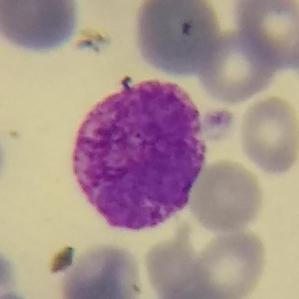Basophil: (60, 68, 214, 242)
Platelets: (202, 106, 236, 141), (46, 243, 78, 276)
RBC: (130, 0, 224, 78), (194, 28, 280, 106), (187, 158, 266, 234), (189, 225, 270, 299), (53, 240, 146, 299), (236, 94, 299, 177), (231, 0, 298, 71), (144, 232, 212, 299), (0, 0, 82, 55), (0, 240, 18, 298), (0, 115, 9, 206)
